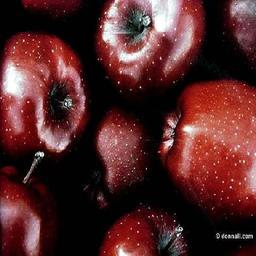apple: (161, 81, 255, 227), (92, 1, 210, 104), (1, 30, 91, 165)
